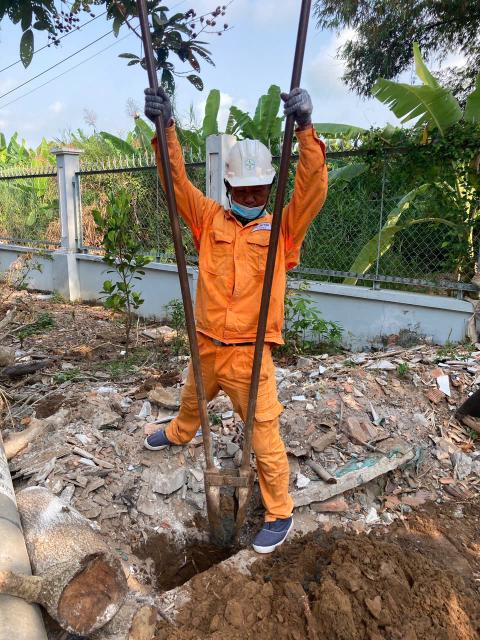gloves: (263, 82, 330, 140), (144, 84, 180, 133)
helmet: (215, 129, 288, 203)
shoes: (237, 498, 308, 552), (131, 422, 185, 458)
